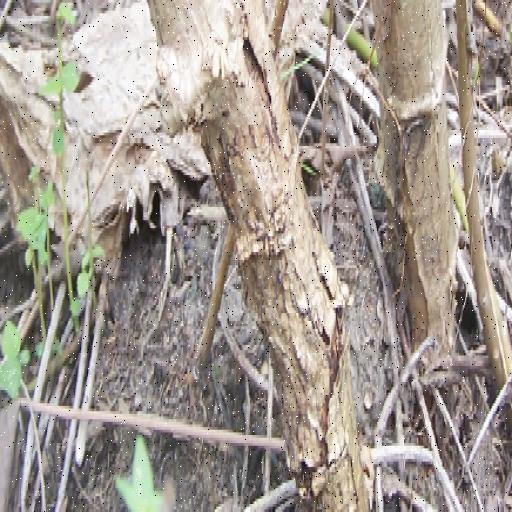Cassava_Root_Rot: (148, 5, 372, 512), (369, 0, 484, 387)
